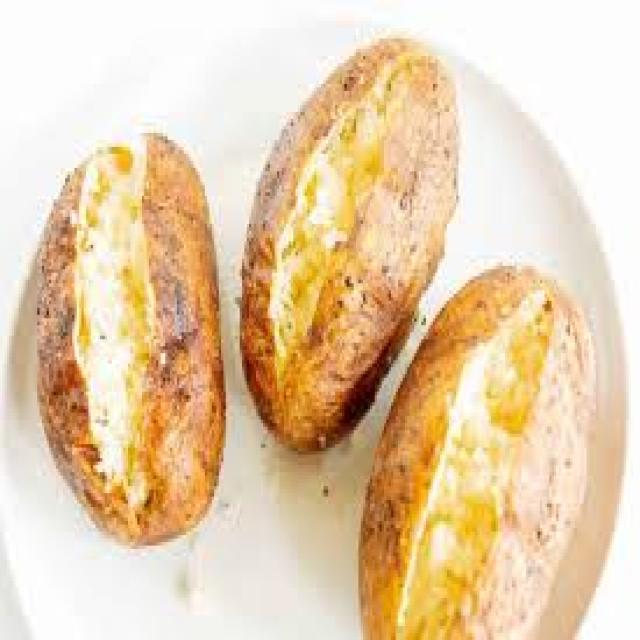Baked Potato: (252, 106, 606, 627), (46, 148, 227, 530)
